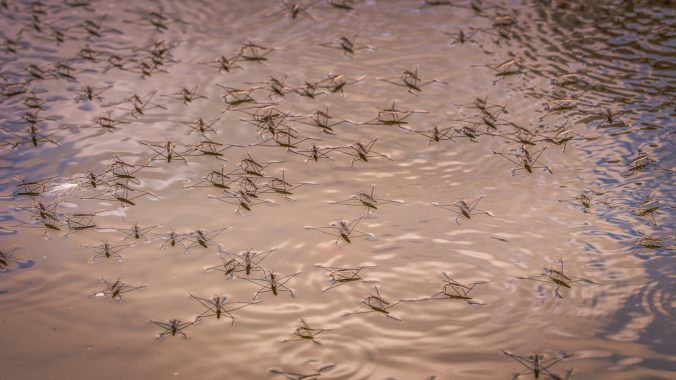Breeding_detected: (224, 80, 330, 155), (149, 132, 237, 198), (17, 199, 108, 235), (514, 258, 583, 299), (491, 142, 559, 181), (443, 192, 500, 232), (432, 268, 490, 305), (320, 264, 394, 287), (335, 182, 388, 212), (144, 315, 201, 339), (293, 313, 329, 348), (98, 275, 139, 302), (184, 225, 219, 252), (85, 167, 101, 193)
